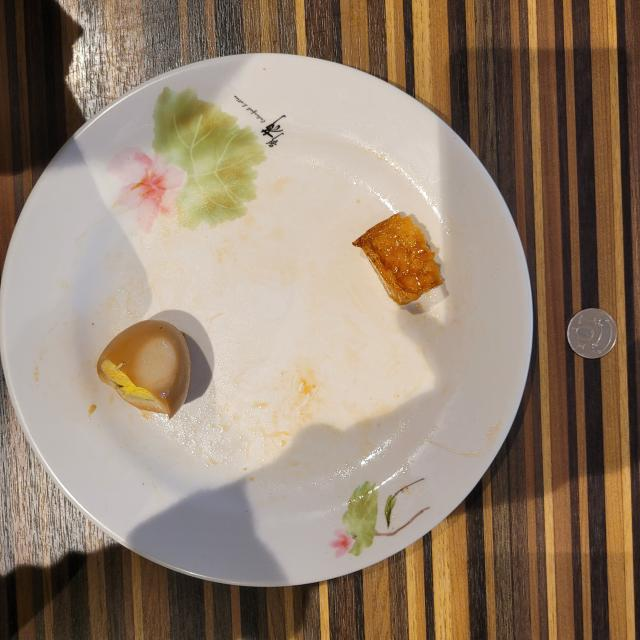coin: (568, 309, 618, 359)
creamy tofu: (352, 214, 442, 305)
soy egg: (98, 320, 191, 418)
